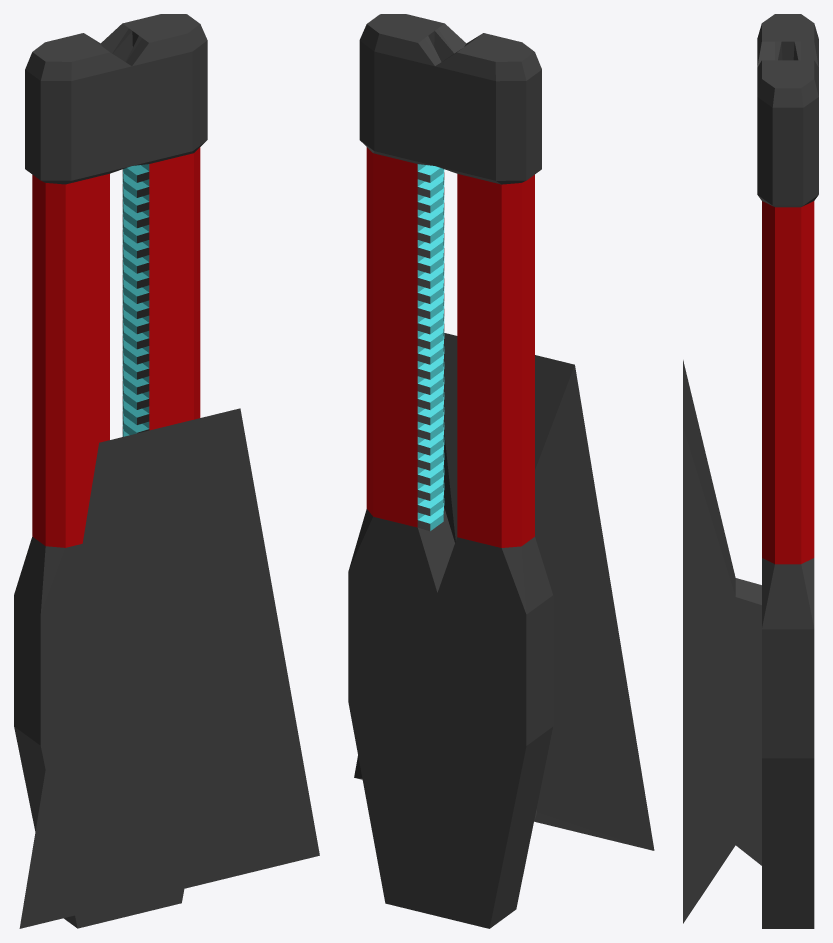
Rendered from MagnetoGun.fbx.
The picture shows the model from 3 angles, left to right: view 1: azimuth 30°, elevation 25°; view 2: azimuth 150°, elevation 25°; view 3: azimuth 270°, elevation 25°; orthographic projection.
Visible parts, largest first — view 1: MagnetoGun; view 2: MagnetoGun; view 3: MagnetoGun.
Part boxes in pixels (<box>): MagnetoGun: <box>14,14,319,928</box>; MagnetoGun: <box>348,14,654,928</box>; MagnetoGun: <box>683,14,818,928</box>.
Size of the model in its own units: 1946 by 5376 by 775.
